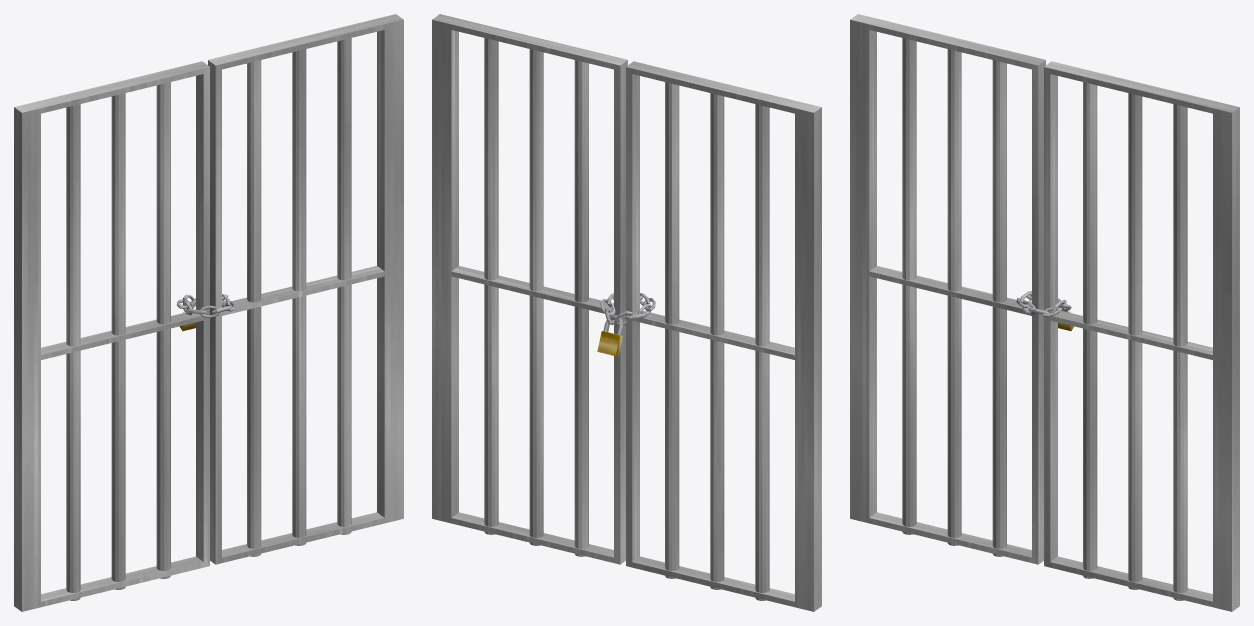
Rendered from Puerta_Candado.fbx.
3 renders of one model, left to right at view 1: azimuth 30°, elevation 25°; view 2: azimuth 150°, elevation 25°; view 3: azimuth 330°, elevation 25°, orthographic.
Parts seen in each view (by area): view 1: Puerta_candado; view 2: Puerta_candado; view 3: Puerta_candado.
Boxes of the visible parts, bbox=[...] form: Puerta_candado: bbox=[14, 14, 403, 611]; Puerta_candado: bbox=[432, 14, 821, 611]; Puerta_candado: bbox=[850, 14, 1239, 611].
Bounding box in the file's own units: 169 × 212 × 25.32.
Materials: 1 (1 with a texture image).
